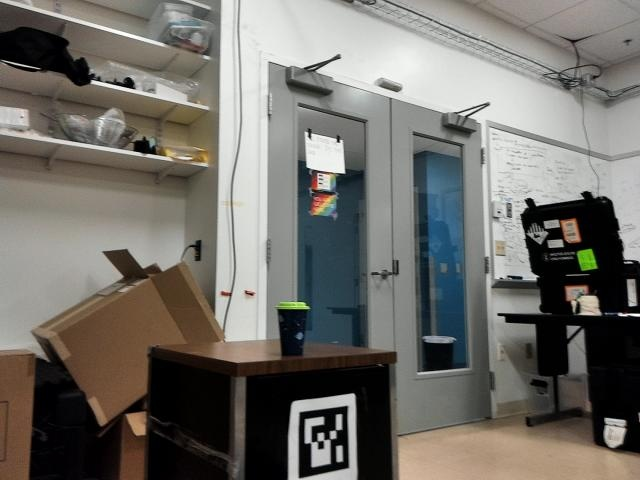water_cup: (274, 300, 311, 357)
